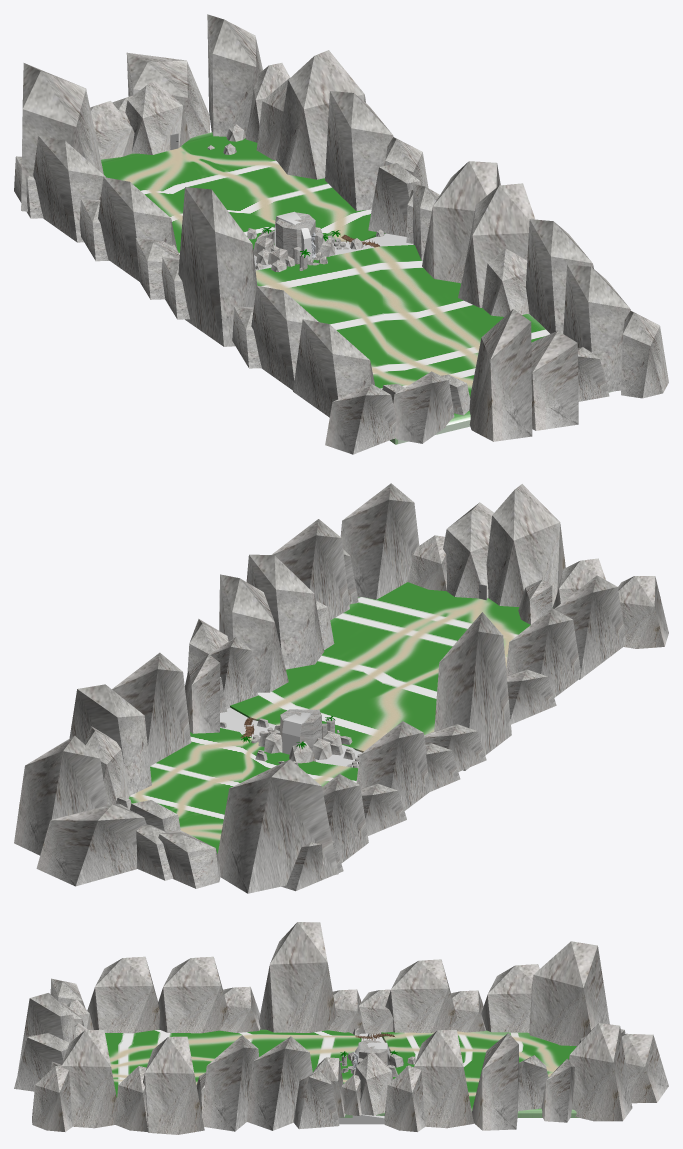
The model's file is cascade_mise_en_scene.fbx.
3 views of the same model, one above another, from view 1: azimuth 30°, elevation 25°; view 2: azimuth 150°, elevation 25°; view 3: azimuth 270°, elevation 25° (orthographic). The views are drawn at different scales.
Parts seen in each view (by area): view 1: montagne.045, Plane, montagne.035, montagne.047, montagne, montagne.020, Cylinder.017, Cube, montagne.032; view 2: montagne.045, Plane, montagne.035, montagne, montagne.047, Cube, montagne.020, montagne.048, montagne.032, montagne.006, Cylinder.017; view 3: montagne.045, montagne.035, Plane, montagne, montagne.047, montagne.006, Cube, Cylinder.017, montagne.020.
Part boxes in pixels (left/top/right/bottom): montagne.045: left=207, top=14, right=668, bottom=398; Plane: left=101, top=132, right=613, bottom=444; montagne.035: left=33, top=135, right=374, bottom=417; montagne.047: left=325, top=309, right=609, bottom=454; montagne: left=21, top=52, right=209, bottom=211; montagne.020: left=247, top=227, right=335, bottom=272; Cylinder.017: left=276, top=212, right=323, bottom=265; Cube: left=254, top=211, right=413, bottom=270; montagne.032: left=14, top=156, right=43, bottom=218; montagne.045: left=14, top=483, right=419, bottom=855; Plane: left=129, top=582, right=552, bottom=853; montagne.035: left=322, top=575, right=626, bottom=863; montagne: left=36, top=759, right=338, bottom=893; montagne.047: left=408, top=484, right=668, bottom=648; Cube: left=220, top=707, right=361, bottom=767; montagne.020: left=255, top=725, right=355, bottom=766; montagne.048: left=136, top=824, right=173, bottom=880; montagne.032: left=281, top=841, right=343, bottom=891; montagne.006: left=187, top=619, right=228, bottom=673; Cylinder.017: left=280, top=709, right=327, bottom=750; montagne.045: left=32, top=1023, right=632, bottom=1134; montagne.035: left=87, top=922, right=539, bottom=1034; Plane: left=105, top=1029, right=578, bottom=1117; montagne: left=529, top=941, right=668, bottom=1103; montagne.047: left=14, top=978, right=93, bottom=1091; montagne.006: left=293, top=1070, right=339, bottom=1129; Cube: left=339, top=1033, right=390, bottom=1124; Cylinder.017: left=347, top=1039, right=387, bottom=1070; montagne.020: left=340, top=1052, right=415, bottom=1074.
Bounding box in the file's own units: 3107 × 1344 × 7033.
